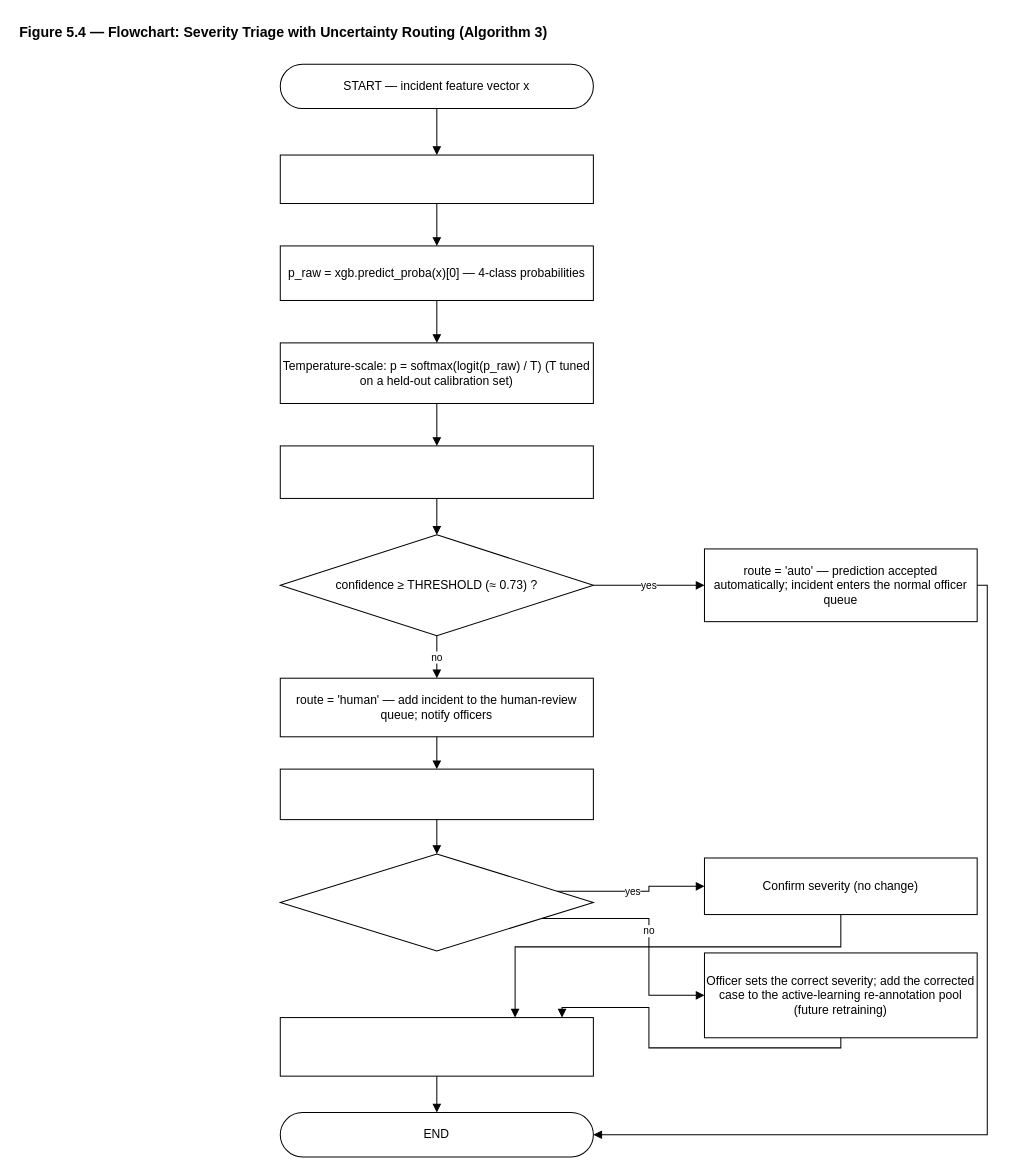
This 1024x1175 diagram has some shape labels left out. The shapes that lost their labels are listed below. From the top down, each one's centre as x and y in pixels, then its label:
the point at 436,179: Build the feature vector x (12-dim)
the point at 436,471: severity = classes[argmax(p)] ; confidence = max(p)
the point at 436,794: Reviewing officer opens the incident (description + NLP entities + map)
the point at 436,902: Officer agrees with the predicted severity ?
the point at 436,1046: Write the final severity to IncidentReport; append IncidentHistory
